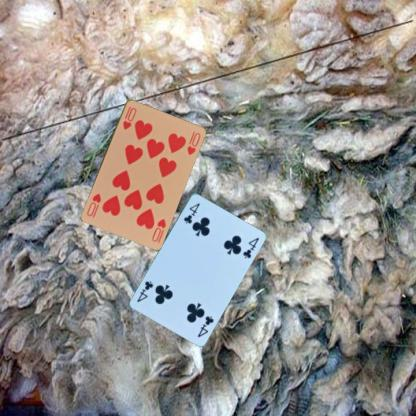10h: (149, 216, 167, 243), (120, 104, 138, 130)
4c: (181, 200, 201, 225), (195, 313, 215, 338)
